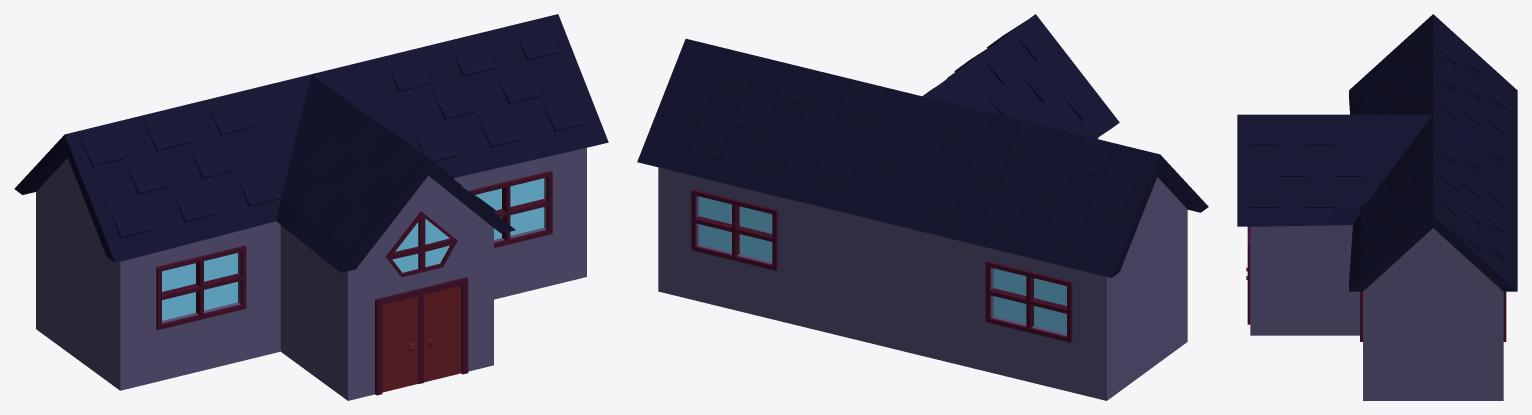
Rendered from Hotel_Berço.fbx.
3 renders of one model, left to right at view 1: azimuth 30°, elevation 25°; view 2: azimuth 150°, elevation 25°; view 3: azimuth 270°, elevation 25°, orthographic. The views are drawn at different scales.
Visible parts, largest first — view 1: Hotel; view 2: Hotel; view 3: Hotel.
Boxes of the visible parts, box(x1,y1,x2,y2) form: Hotel: box(14, 14, 608, 400); Hotel: box(637, 14, 1208, 400); Hotel: box(1237, 14, 1517, 400).
Size of the model in its own units: 16.93 by 7.5 by 9.96.
